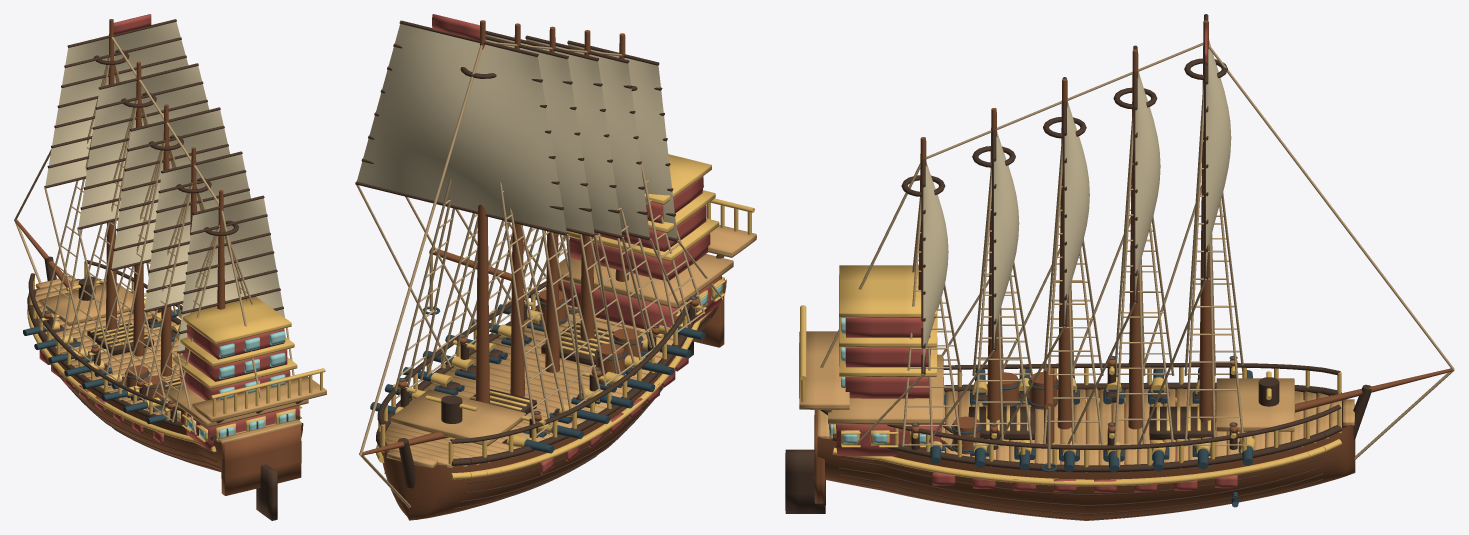
Rendered from zhenghe_baochuan.glb.
3 views of the same model, side by side, from view 1: azimuth 30°, elevation 25°; view 2: azimuth 150°, elevation 25°; view 3: azimuth 270°, elevation 25° (orthographic). The views are drawn at different scales.
Parts seen in each view (by area): view 1: _MeshInstance3D_118, _MeshInstance3D_113, _MeshInstance3D_119, _MeshInstance3D_116, _MeshInstance3D_114, _MeshInstance3D_108, _MeshInstance3D_109, _MeshInstance3D_112, _MeshInstance3D_110, _MeshInstance3D_111, _MeshInstance3D_115, _MeshInstance3D_117 (+1 smaller); view 2: _MeshInstance3D_108, _MeshInstance3D_113, _MeshInstance3D_119, _MeshInstance3D_114, _MeshInstance3D_118, _MeshInstance3D_116, _MeshInstance3D_115, _MeshInstance3D_110, _MeshInstance3D_109, _MeshInstance3D_111, _MeshInstance3D_120, _MeshInstance3D_112; view 3: _MeshInstance3D_113, _MeshInstance3D_119, _MeshInstance3D_118, _MeshInstance3D_114, _MeshInstance3D_116, _MeshInstance3D_115, _MeshInstance3D_120, _MeshInstance3D_109, _MeshInstance3D_108, _MeshInstance3D_110, _MeshInstance3D_111, _MeshInstance3D_112.
Boxes of the visible parts, x1=… form: _MeshInstance3D_118: x1=27, y1=19, x2=302, y2=520; _MeshInstance3D_113: x1=14, y1=19, x2=303, y2=495; _MeshInstance3D_119: x1=14, y1=37, x2=294, y2=434; _MeshInstance3D_116: x1=27, y1=261, x2=325, y2=451; _MeshInstance3D_114: x1=35, y1=275, x2=326, y2=444; _MeshInstance3D_108: x1=45, y1=21, x2=188, y2=185; _MeshInstance3D_109: x1=78, y1=66, x2=209, y2=227; _MeshInstance3D_112: x1=178, y1=198, x2=284, y2=351; _MeshInstance3D_110: x1=111, y1=110, x2=229, y2=268; _MeshInstance3D_111: x1=144, y1=154, x2=250, y2=309; _MeshInstance3D_115: x1=39, y1=14, x2=299, y2=450; _MeshInstance3D_117: x1=177, y1=331, x2=294, y2=438; _MeshInstance3D_108: x1=357, y1=24, x2=566, y2=232; _MeshInstance3D_113: x1=359, y1=20, x2=726, y2=520; _MeshInstance3D_119: x1=356, y1=41, x2=721, y2=507; _MeshInstance3D_114: x1=381, y1=225, x2=756, y2=468; _MeshInstance3D_118: x1=355, y1=20, x2=724, y2=508; _MeshInstance3D_116: x1=376, y1=154, x2=754, y2=479; _MeshInstance3D_115: x1=432, y1=14, x2=721, y2=474; _MeshInstance3D_110: x1=485, y1=34, x2=622, y2=235; _MeshInstance3D_109: x1=485, y1=39, x2=594, y2=234; _MeshInstance3D_111: x1=526, y1=39, x2=649, y2=237; _MeshInstance3D_120: x1=370, y1=292, x2=705, y2=453; _MeshInstance3D_112: x1=568, y1=44, x2=677, y2=238; _MeshInstance3D_113: x1=814, y1=20, x2=1453, y2=520; _MeshInstance3D_119: x1=820, y1=42, x2=1454, y2=468; _MeshInstance3D_118: x1=785, y1=14, x2=1371, y2=519; _MeshInstance3D_114: x1=799, y1=331, x2=1354, y2=465; _MeshInstance3D_116: x1=800, y1=265, x2=1341, y2=486; _MeshInstance3D_115: x1=836, y1=28, x2=1237, y2=492; _MeshInstance3D_120: x1=911, y1=355, x2=1253, y2=507; _MeshInstance3D_109: x1=1135, y1=71, x2=1160, y2=300; _MeshInstance3D_108: x1=1206, y1=39, x2=1231, y2=276; _MeshInstance3D_110: x1=1064, y1=101, x2=1089, y2=324; _MeshInstance3D_111: x1=994, y1=131, x2=1019, y2=347; _MeshInstance3D_112: x1=923, y1=161, x2=948, y2=371.
Bounding box in the file's own units: 6.87 × 13.25 × 16.37.
